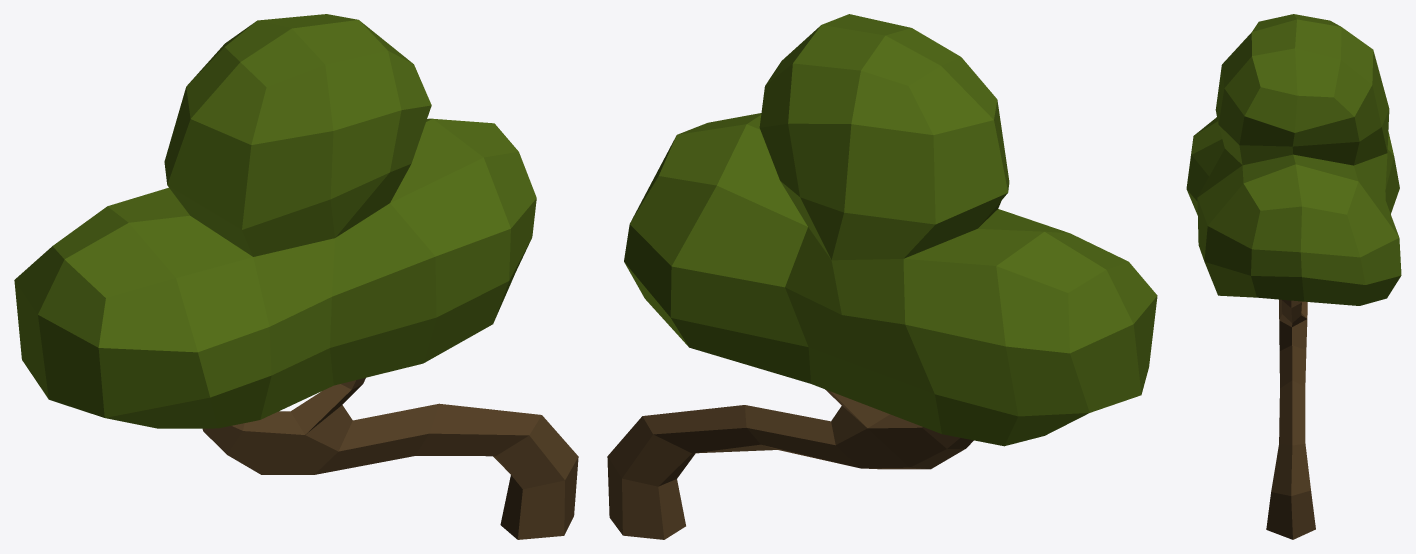
Rendered from TreesAndBushes_065.fbx.
The picture shows the model from 3 angles, left to right: view 1: azimuth 30°, elevation 25°; view 2: azimuth 150°, elevation 25°; view 3: azimuth 270°, elevation 25°; orthographic projection. The views are drawn at different scales.
Visible parts, largest first — view 1: TreesAndBushes_065; view 2: TreesAndBushes_065; view 3: TreesAndBushes_065.
Part boxes in pixels (<box>): TreesAndBushes_065: <box>14,14,578,539</box>; TreesAndBushes_065: <box>607,14,1157,539</box>; TreesAndBushes_065: <box>1186,14,1401,539</box>.
Size of the model in its own units: 127 by 126 by 58.57.
